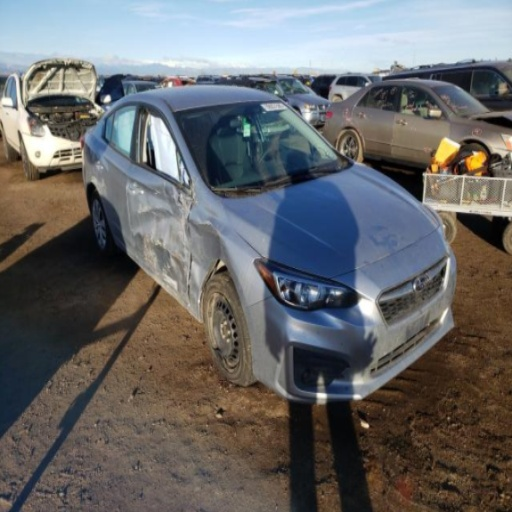dent: (126, 163, 191, 310), (188, 216, 222, 323)
rust: (141, 267, 201, 323)
scratch: (166, 274, 177, 292), (191, 177, 198, 204), (169, 251, 183, 264), (143, 244, 148, 270), (196, 219, 214, 226), (181, 214, 185, 242), (151, 217, 156, 237), (155, 239, 166, 248), (149, 249, 153, 270), (138, 205, 150, 212), (150, 210, 162, 216), (165, 279, 173, 285)
